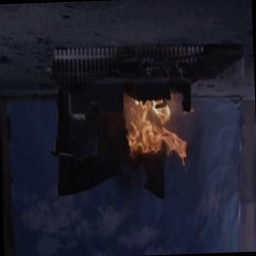fire: (116, 87, 197, 171)
